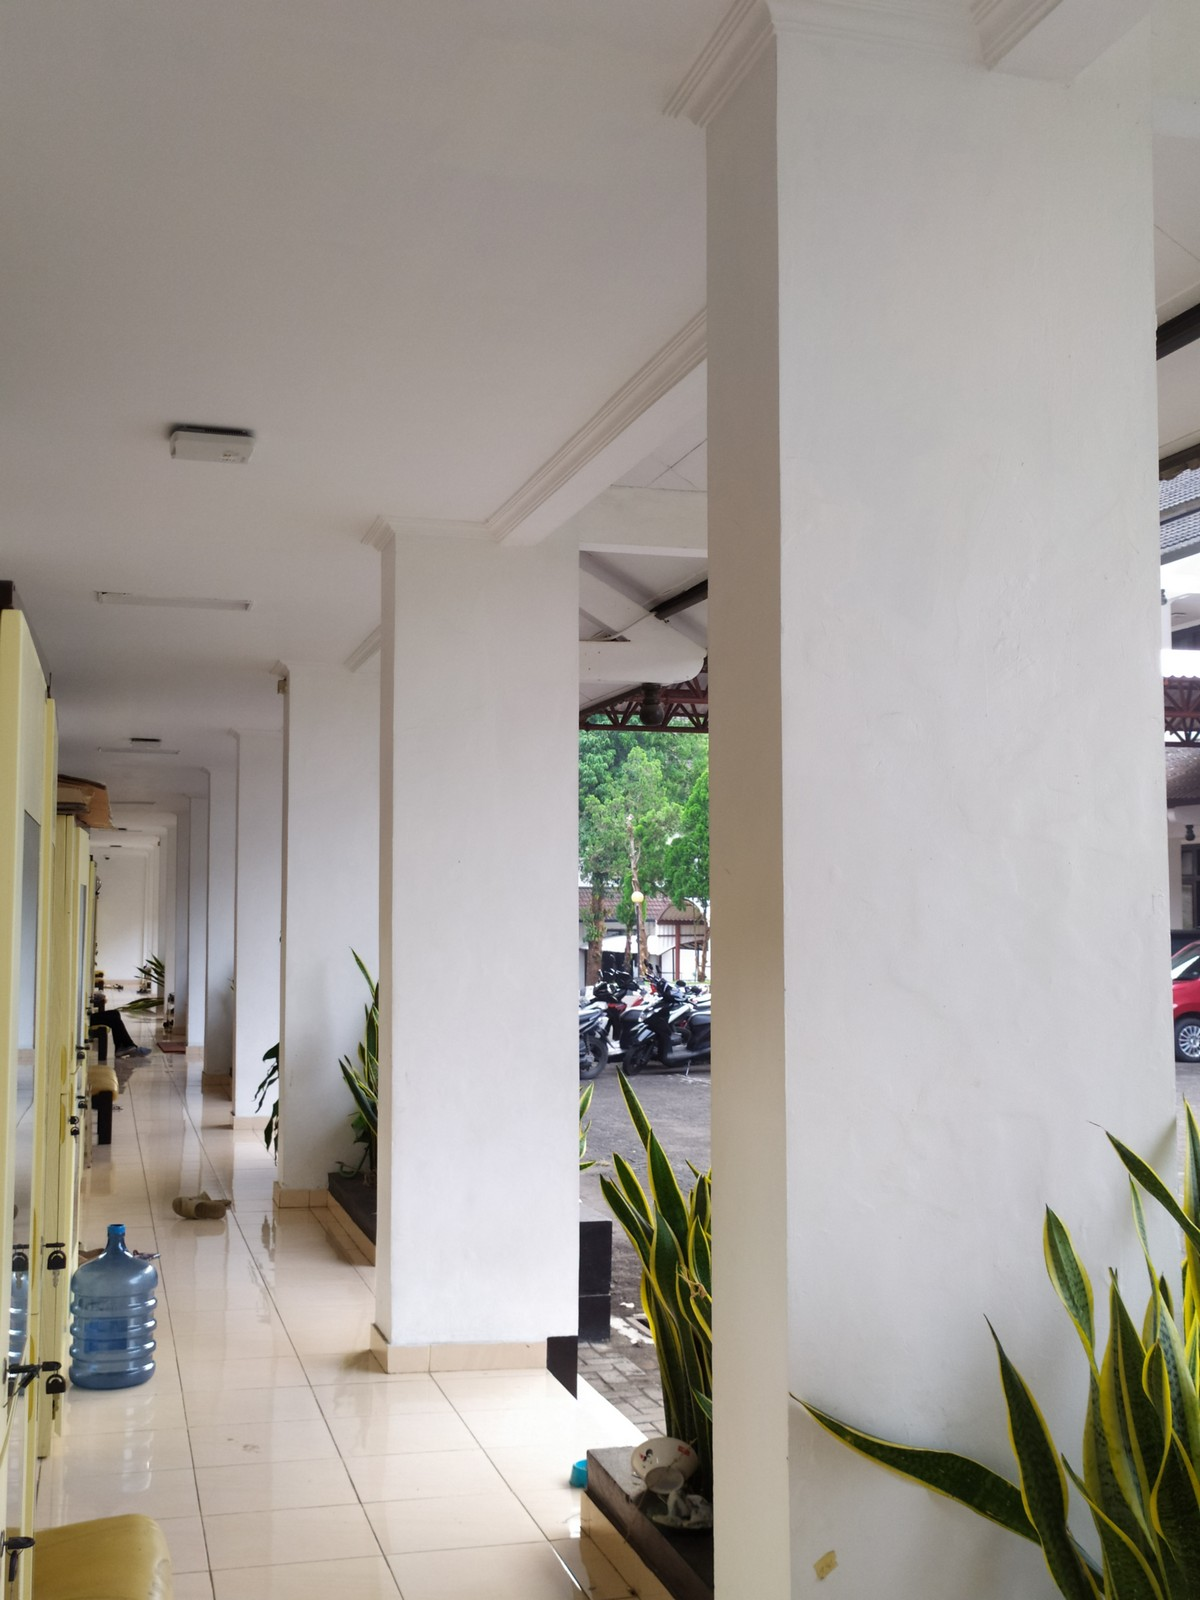concrete beam: (570, 484, 708, 569)
concrete column: (682, 42, 1192, 1565), (354, 489, 597, 1386), (270, 651, 376, 1208)
